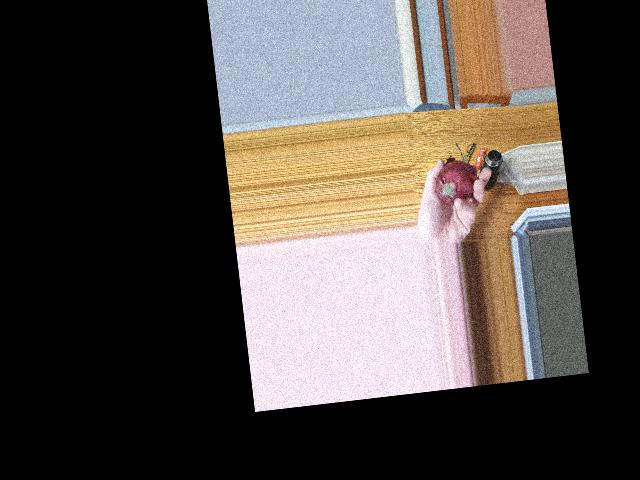onion: (433, 162, 476, 206)
